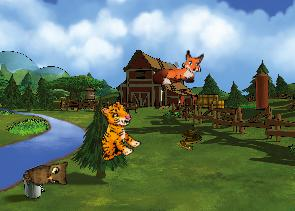fox: (152, 50, 204, 85)
owl: (21, 156, 74, 198)
tiger: (82, 98, 147, 166)
